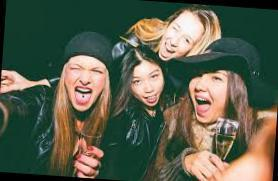Drunk: (67, 58, 106, 111), (190, 73, 230, 123), (162, 12, 197, 59), (129, 60, 165, 105)
